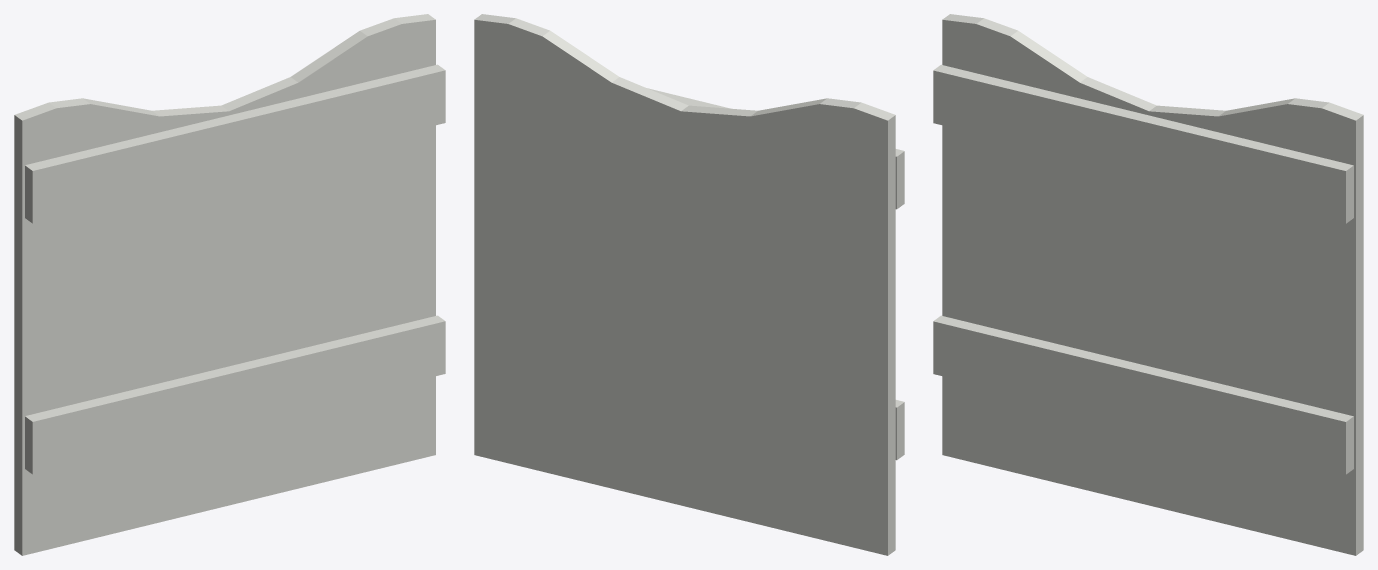
Rendered from Fence_gate.fbx.
3 views of the same model, side by side, from view 1: azimuth 30°, elevation 25°; view 2: azimuth 150°, elevation 25°; view 3: azimuth 330°, elevation 25° (orthographic).
Parts seen in each view (by area): view 1: Cube.008; view 2: Cube.008; view 3: Cube.008.
Part boxes in pixels (bbox=[...]): Cube.008: bbox=[14, 14, 445, 555]; Cube.008: bbox=[474, 14, 904, 555]; Cube.008: bbox=[933, 14, 1363, 555].
Bounding box in the file's own units: 109 × 110 × 8.02.
